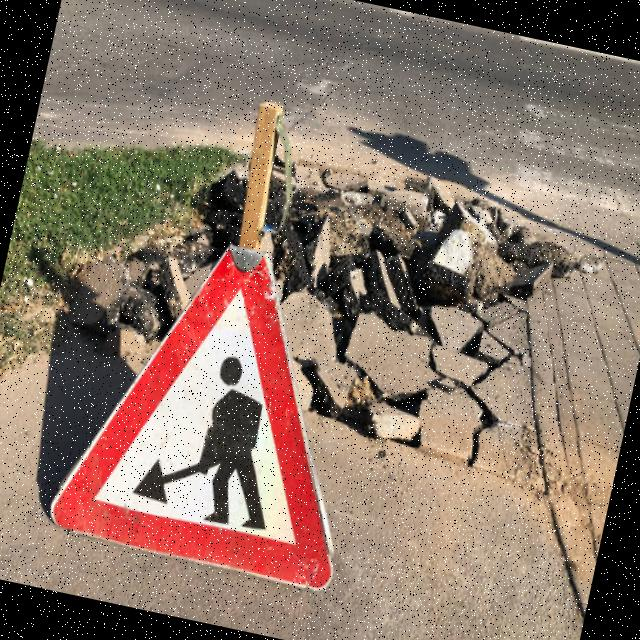road_work: (42, 218, 394, 615)
